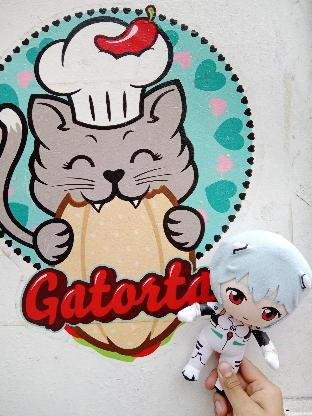rei-plush: (163, 228, 311, 411)
